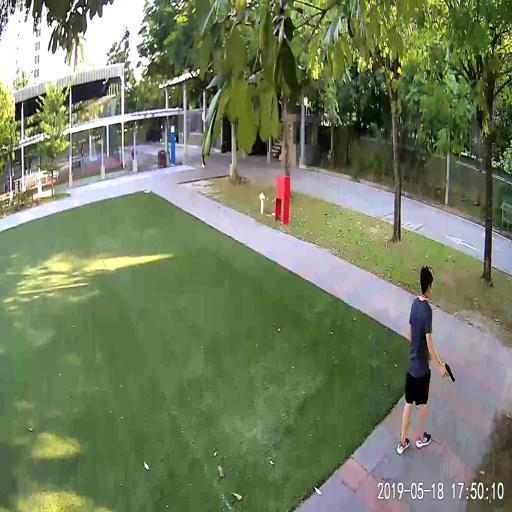Handgun: (442, 359, 453, 383)
